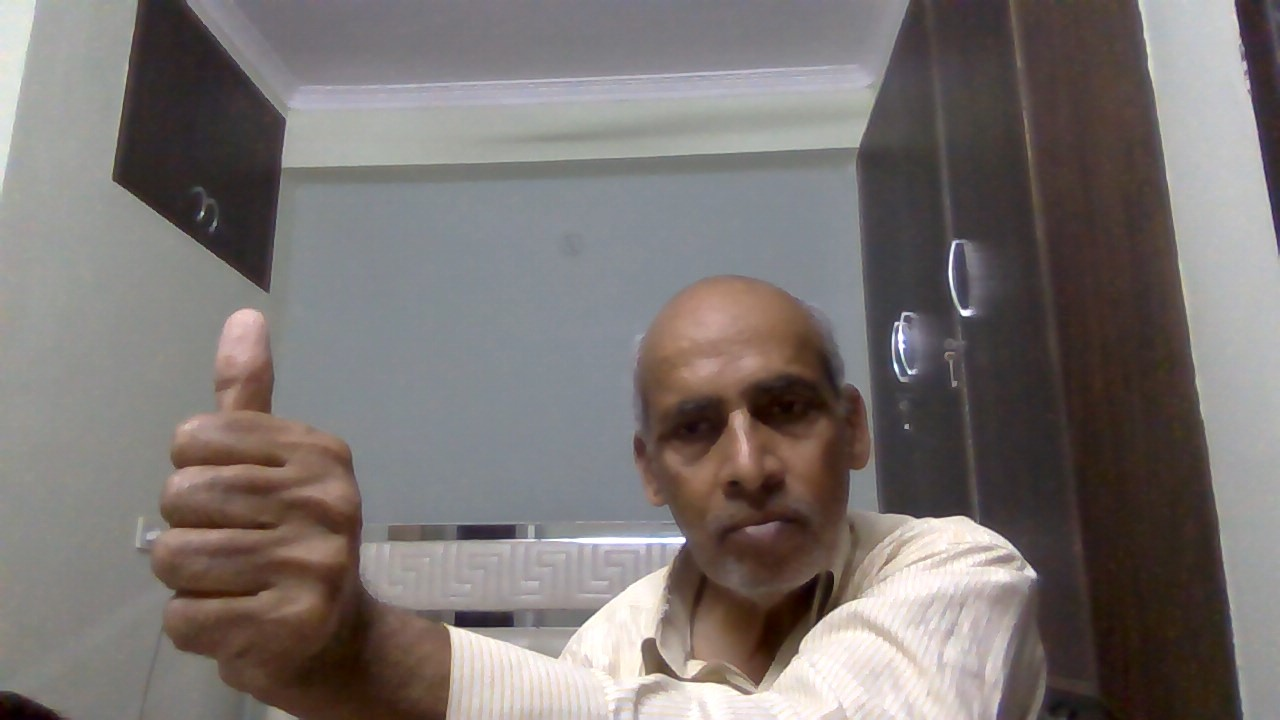Save: (133, 290, 376, 706)
